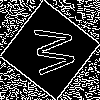W: (25, 25, 76, 77)
